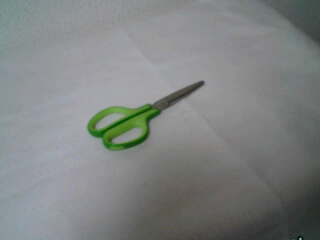003_classes: (89, 78, 213, 153)
